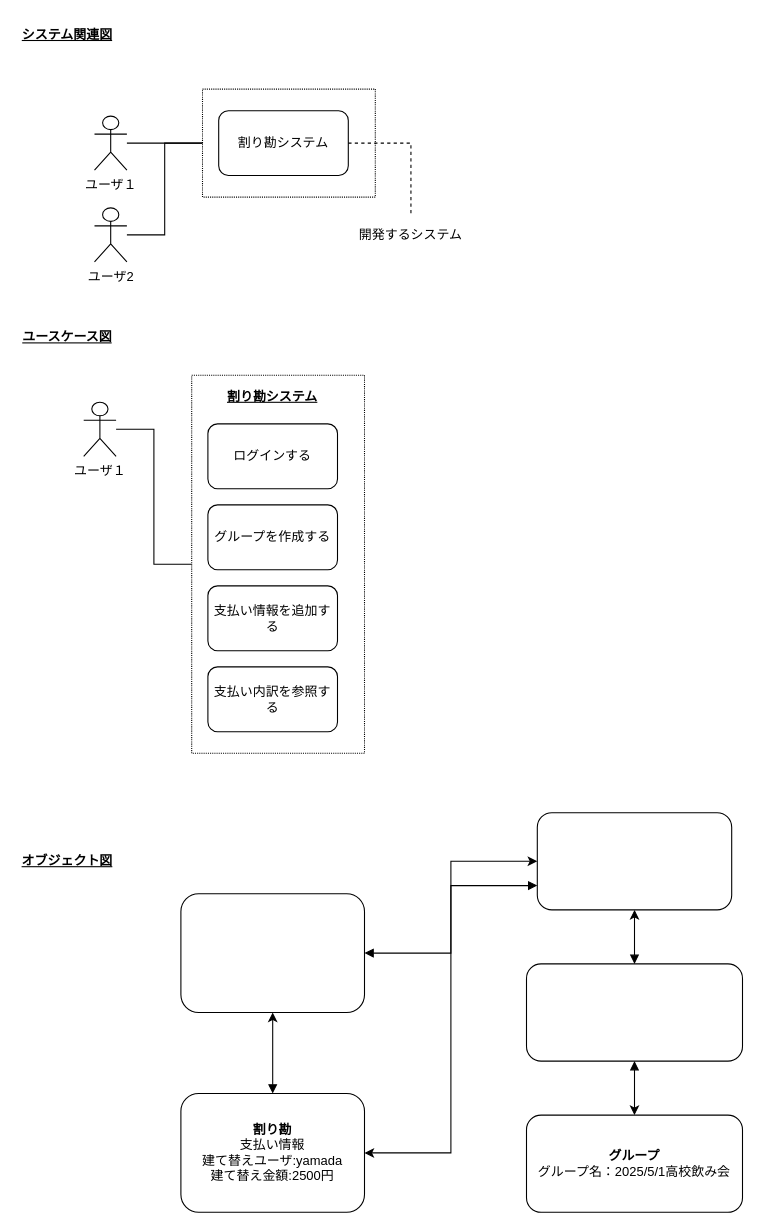
Image size: 761x1231. Some labels were removed from this diagram. The centre of each missing label's shape, as x and y in pixels:
グループメンバー グループ：高校飲み会 メンバー：shoooooou: the point at 633,1012
ユーザ 名前：shoooooou メールアドレス：shoooooou@sample.com パスワード：abcd1234: the point at 634,861
支払い情報 支払いユーザ:shoooooou グループ:高校飲み会 項目：鳥貴族 金額：10000円: the point at 272,953
